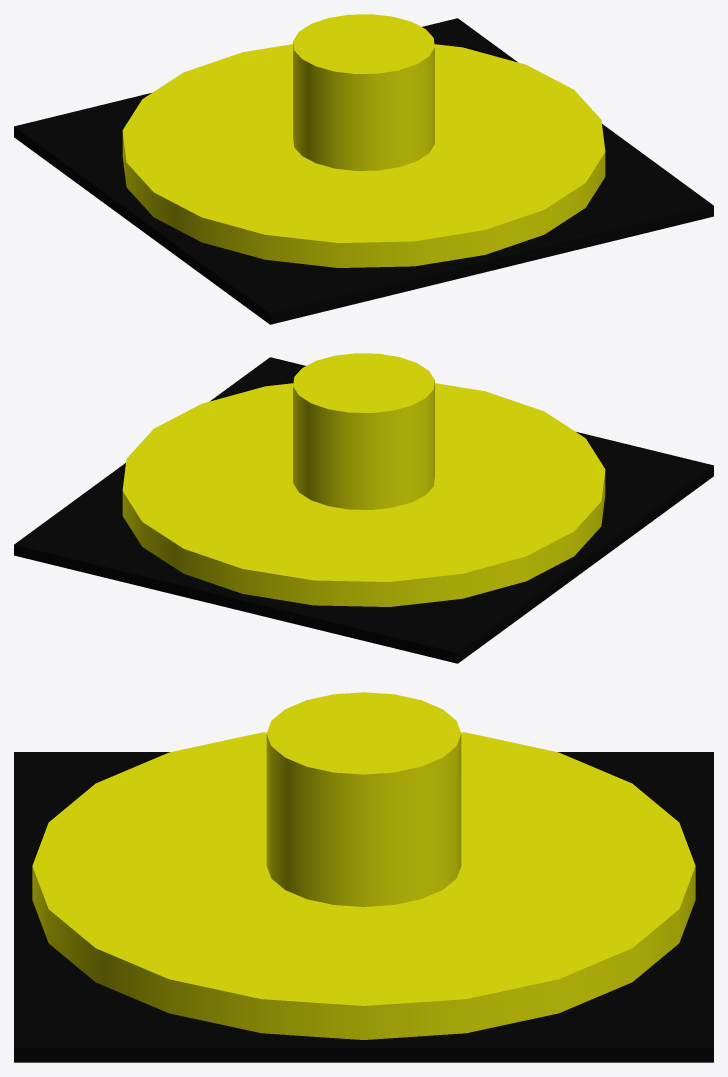
The model's file is EmergencyButtonButtom.fbx.
3 views of the same model, one above another, from view 1: azimuth 30°, elevation 25°; view 2: azimuth 150°, elevation 25°; view 3: azimuth 270°, elevation 25° (orthographic). The views are drawn at different scales.
Visible parts, largest first — view 1: pCube2; view 2: pCube2; view 3: pCube2.
Boxes of the visible parts, x1=… form: pCube2: x1=14, y1=14, x2=713, y2=324; pCube2: x1=14, y1=353, x2=713, y2=663; pCube2: x1=14, y1=692, x2=713, y2=1062.
Bounding box in the file's own units: 2.11 × 0.6078 × 2.11.
